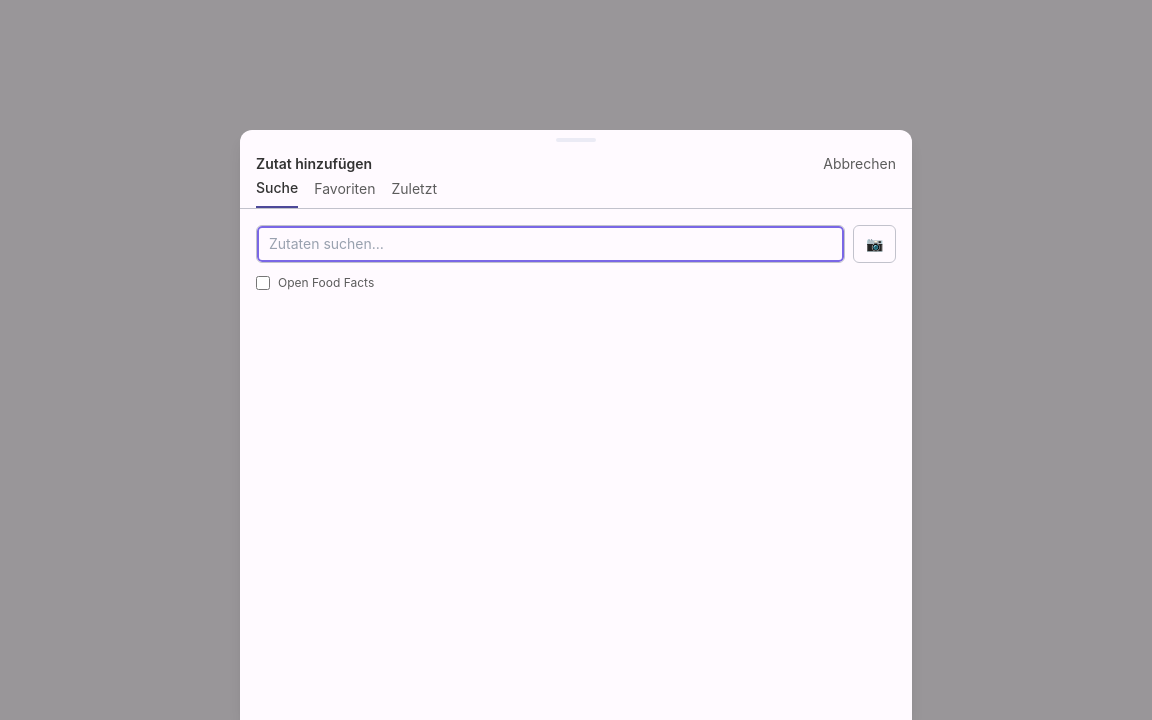
Test: RecipeIngredientPicker — Favoriten tab › omits the last amount from picker rows
Click the button "Favoriten" at (345, 193), box [314,178,376,208]
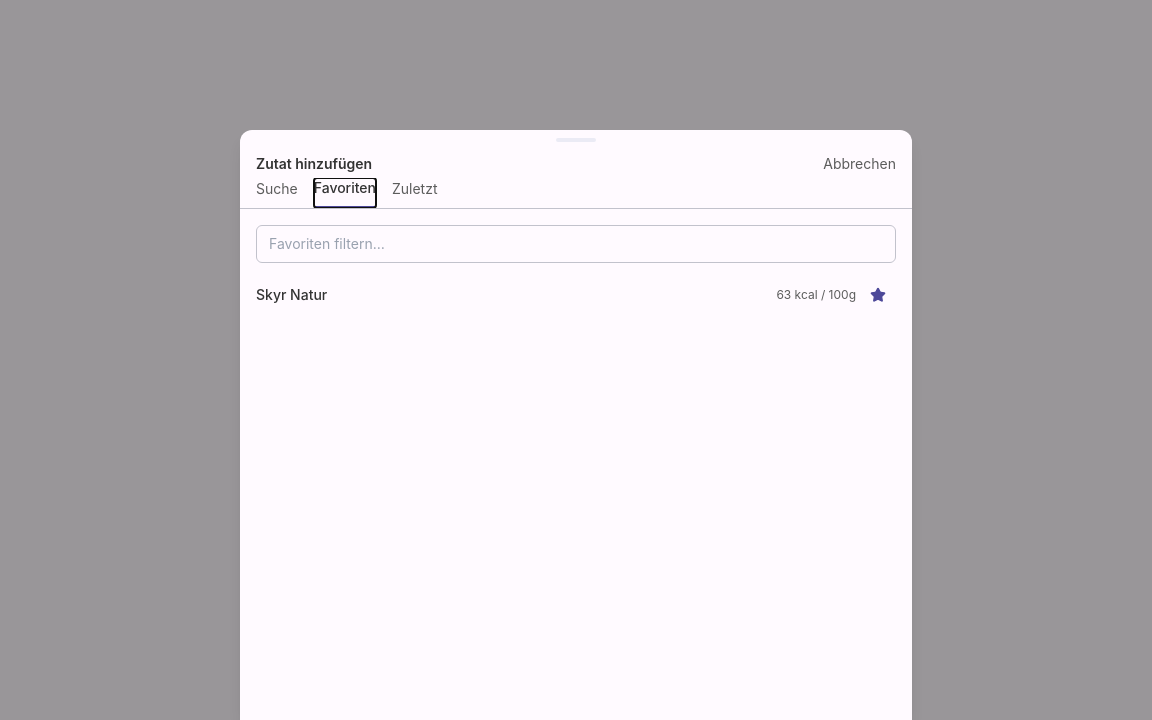
Expected: the button "Skyr Natur 63 kcal / 100g" does not show "zuletzt", [256,275,856,315]
Expected: the button "Skyr Natur 63 kcal / 100g" is shown, [256,275,856,315]
